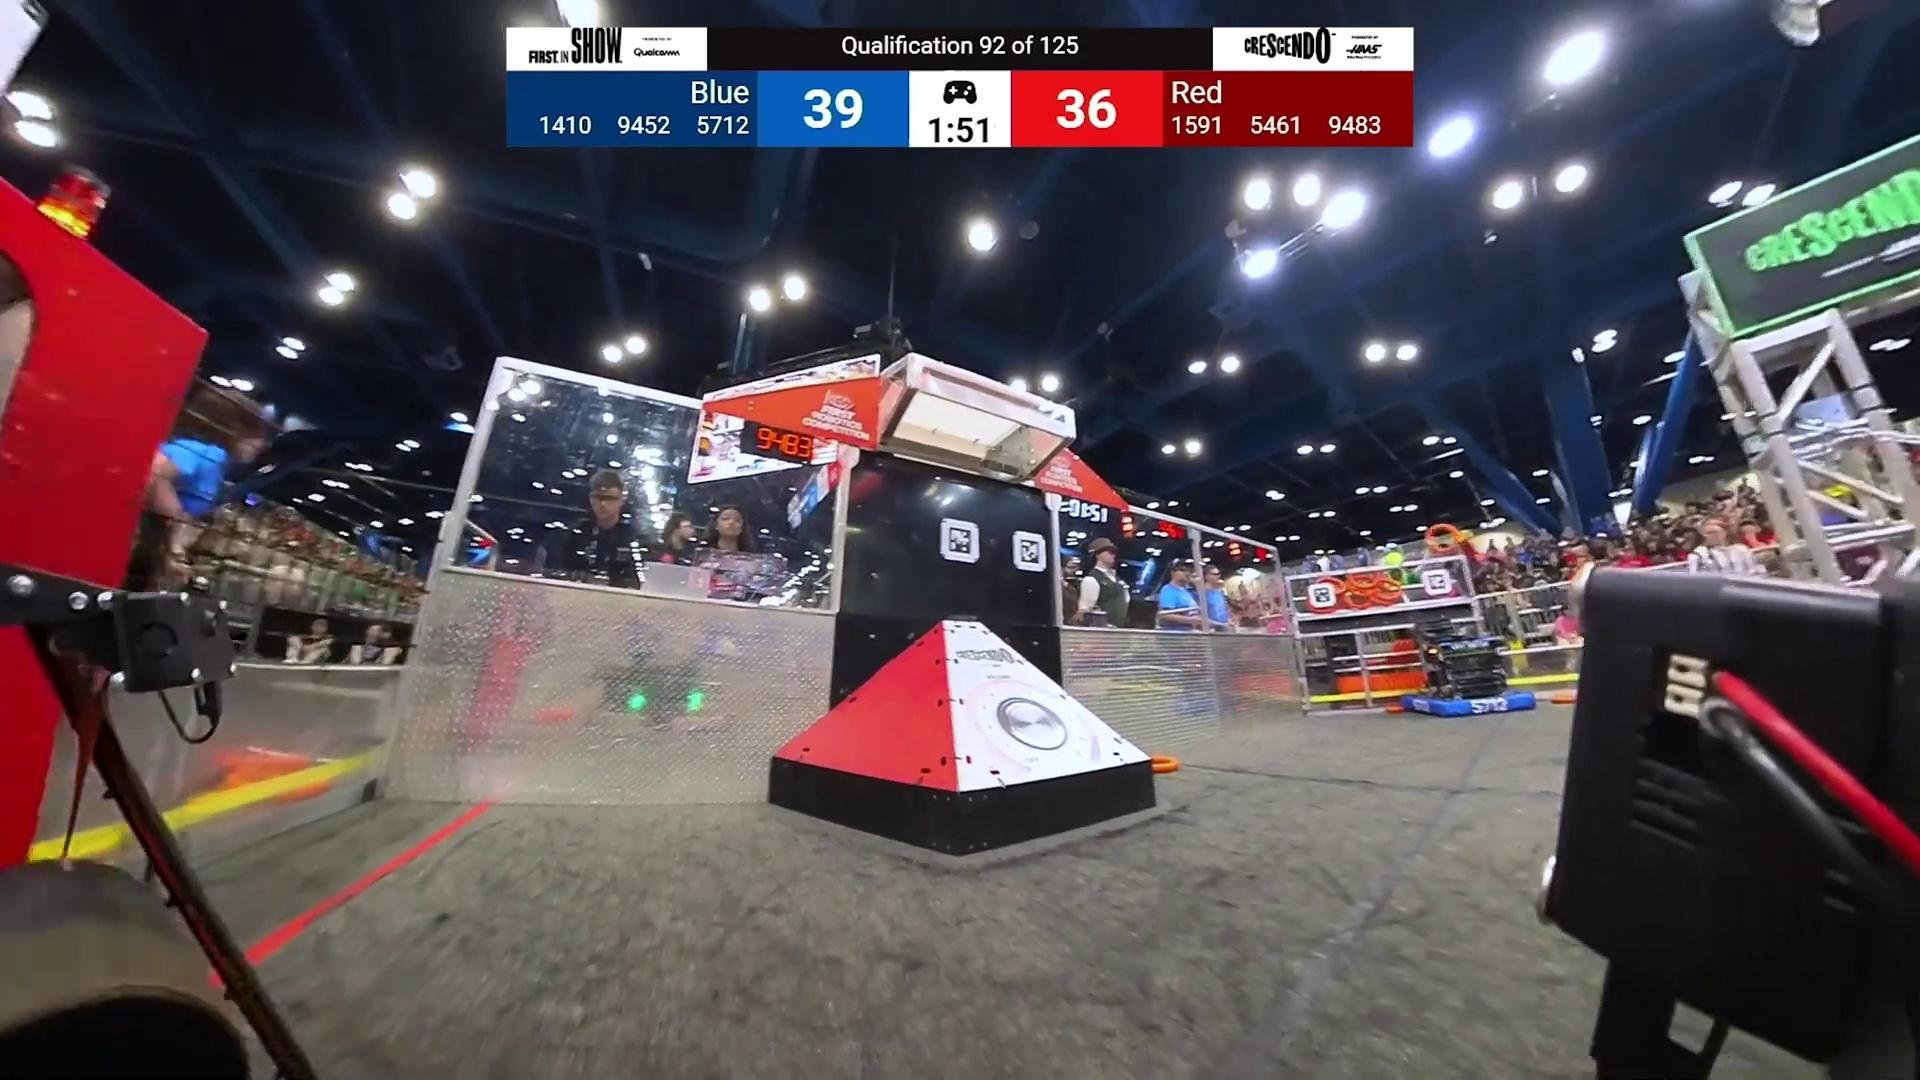robot: (1402, 617, 1538, 720)
